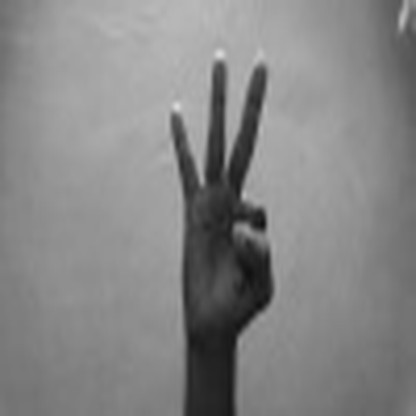f: (157, 43, 284, 347)
